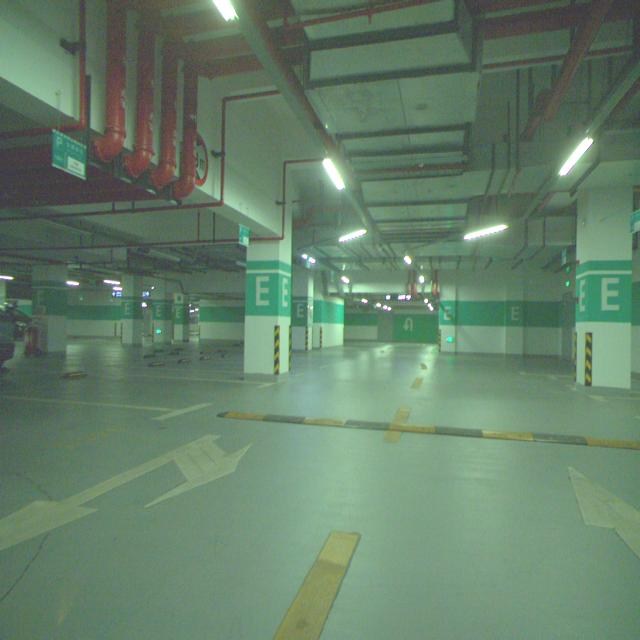pillar: (576, 188, 632, 388), (244, 206, 292, 375), (32, 266, 68, 353), (121, 273, 142, 345)
